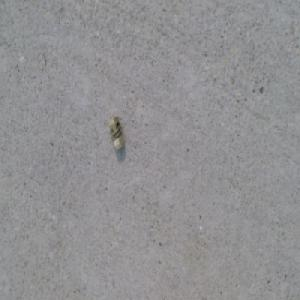BoltNutSet: (108, 117, 125, 153)
